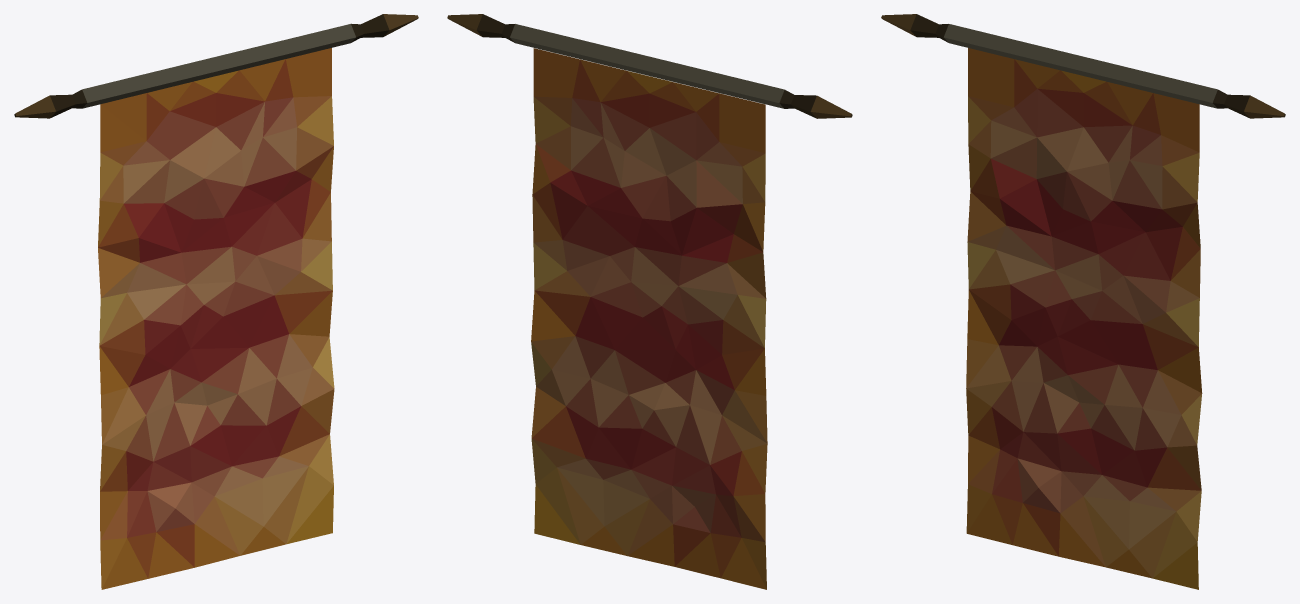
The model's file is Prop_TapestryA.fbx.
3 renders of one model, left to right at view 1: azimuth 30°, elevation 25°; view 2: azimuth 150°, elevation 25°; view 3: azimuth 330°, elevation 25°, orthographic.
Parts seen in each view (by area): view 1: Prop_TapestryA; view 2: Prop_TapestryA; view 3: Prop_TapestryA.
Boxes of the visible parts, x1,y1,x2,y2 form: Prop_TapestryA: (14, 14, 418, 589); Prop_TapestryA: (447, 14, 852, 589); Prop_TapestryA: (881, 14, 1285, 589).
Size of the model in its own units: 217 by 261 by 11.99.
